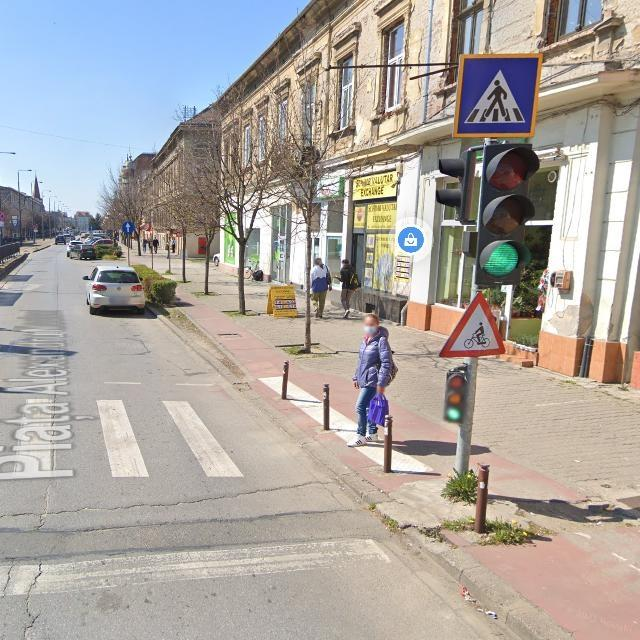info_crosswalk: (453, 52, 543, 136)
